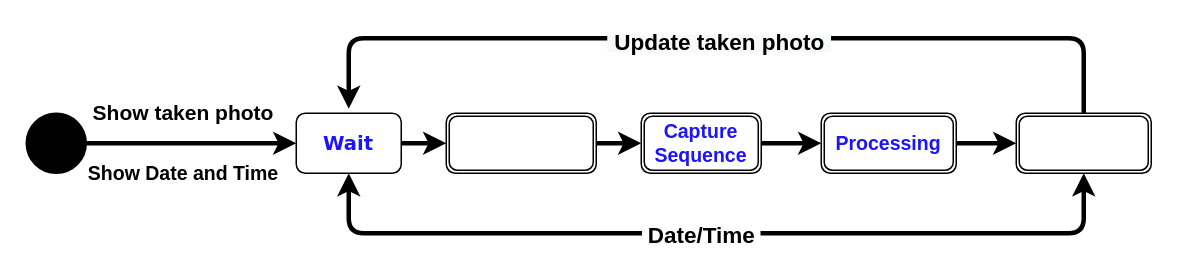
Image size: 1178x275. Some labels were removed from this diagram. The box of each missing label's shape, as (x1, y1, x2, y2) in pixels:
Select layout: (445, 112, 596, 173)
Show result: (1015, 112, 1151, 173)
